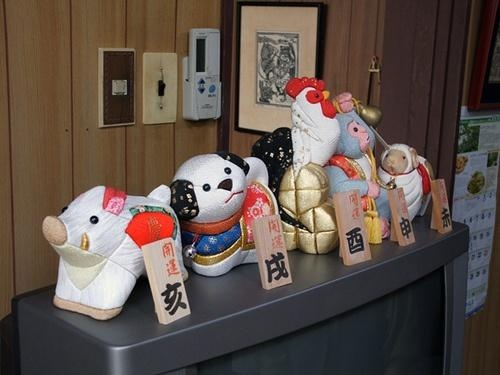tvmonitor: (1, 214, 471, 375)
